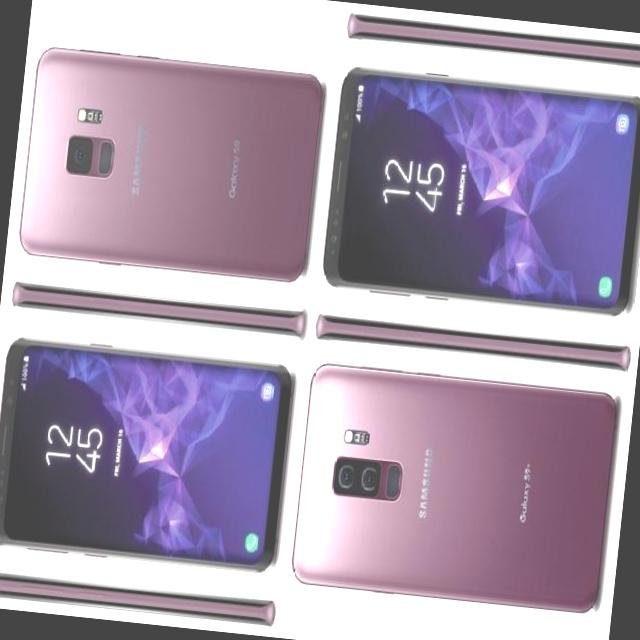lens_back: (328, 451, 362, 500), (64, 133, 95, 177), (353, 460, 382, 497)
phone: (280, 356, 624, 618), (312, 58, 640, 323), (11, 36, 330, 292), (0, 327, 298, 580), (312, 308, 636, 378), (341, 7, 640, 75), (6, 274, 312, 340), (0, 561, 279, 627)
